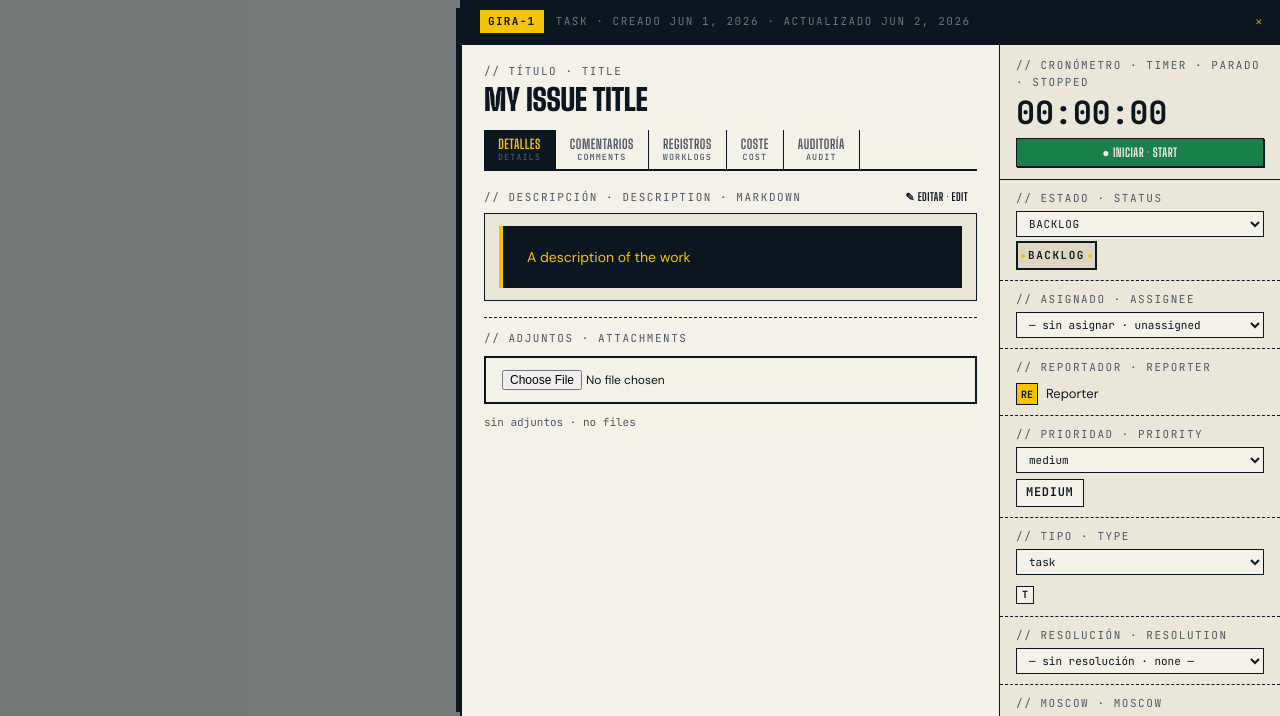
Scenario: IssueDrawer — coverage gaps › shows the count badge on the active Worklogs tab
Expected: the heading "My issue title" is shown, [484,81,648,117]
Click the text "Registros": (687,144) [663,138,712,151]
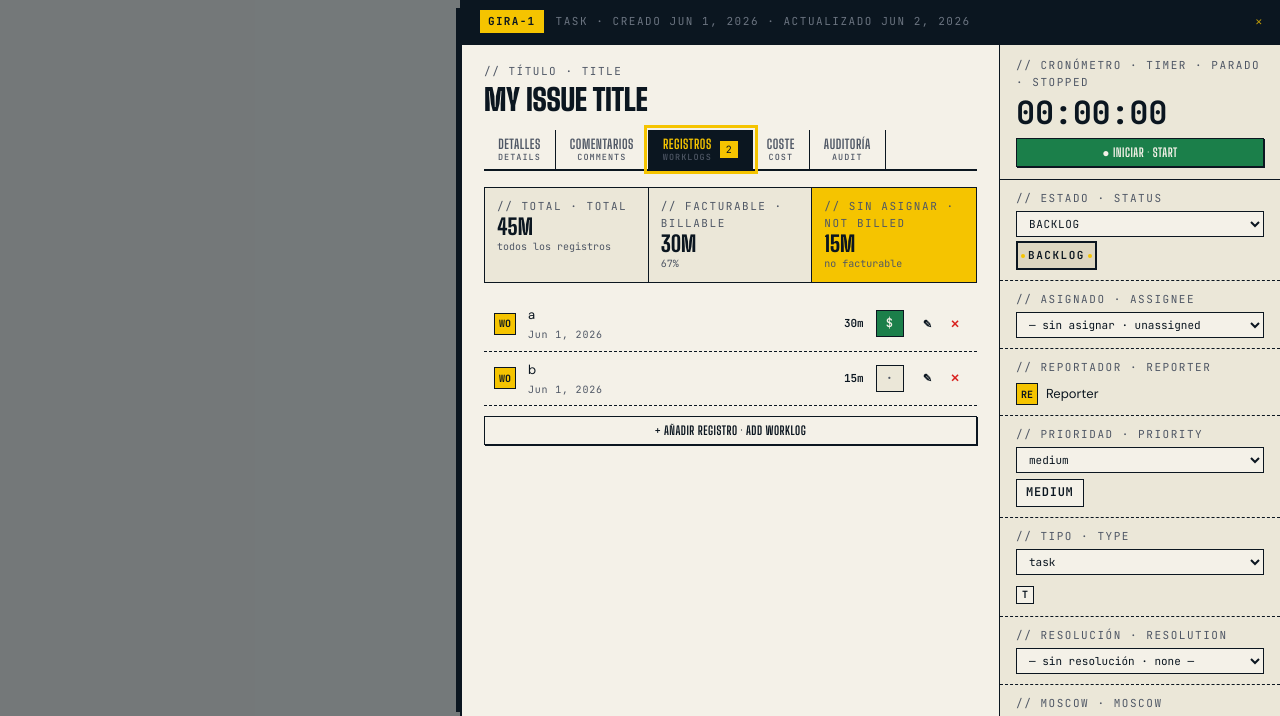
Result: the text "2" is shown at [720,141,738,158]
